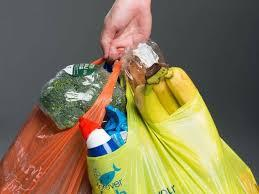Plastic bag: (121, 45, 258, 194), (4, 46, 128, 194)
